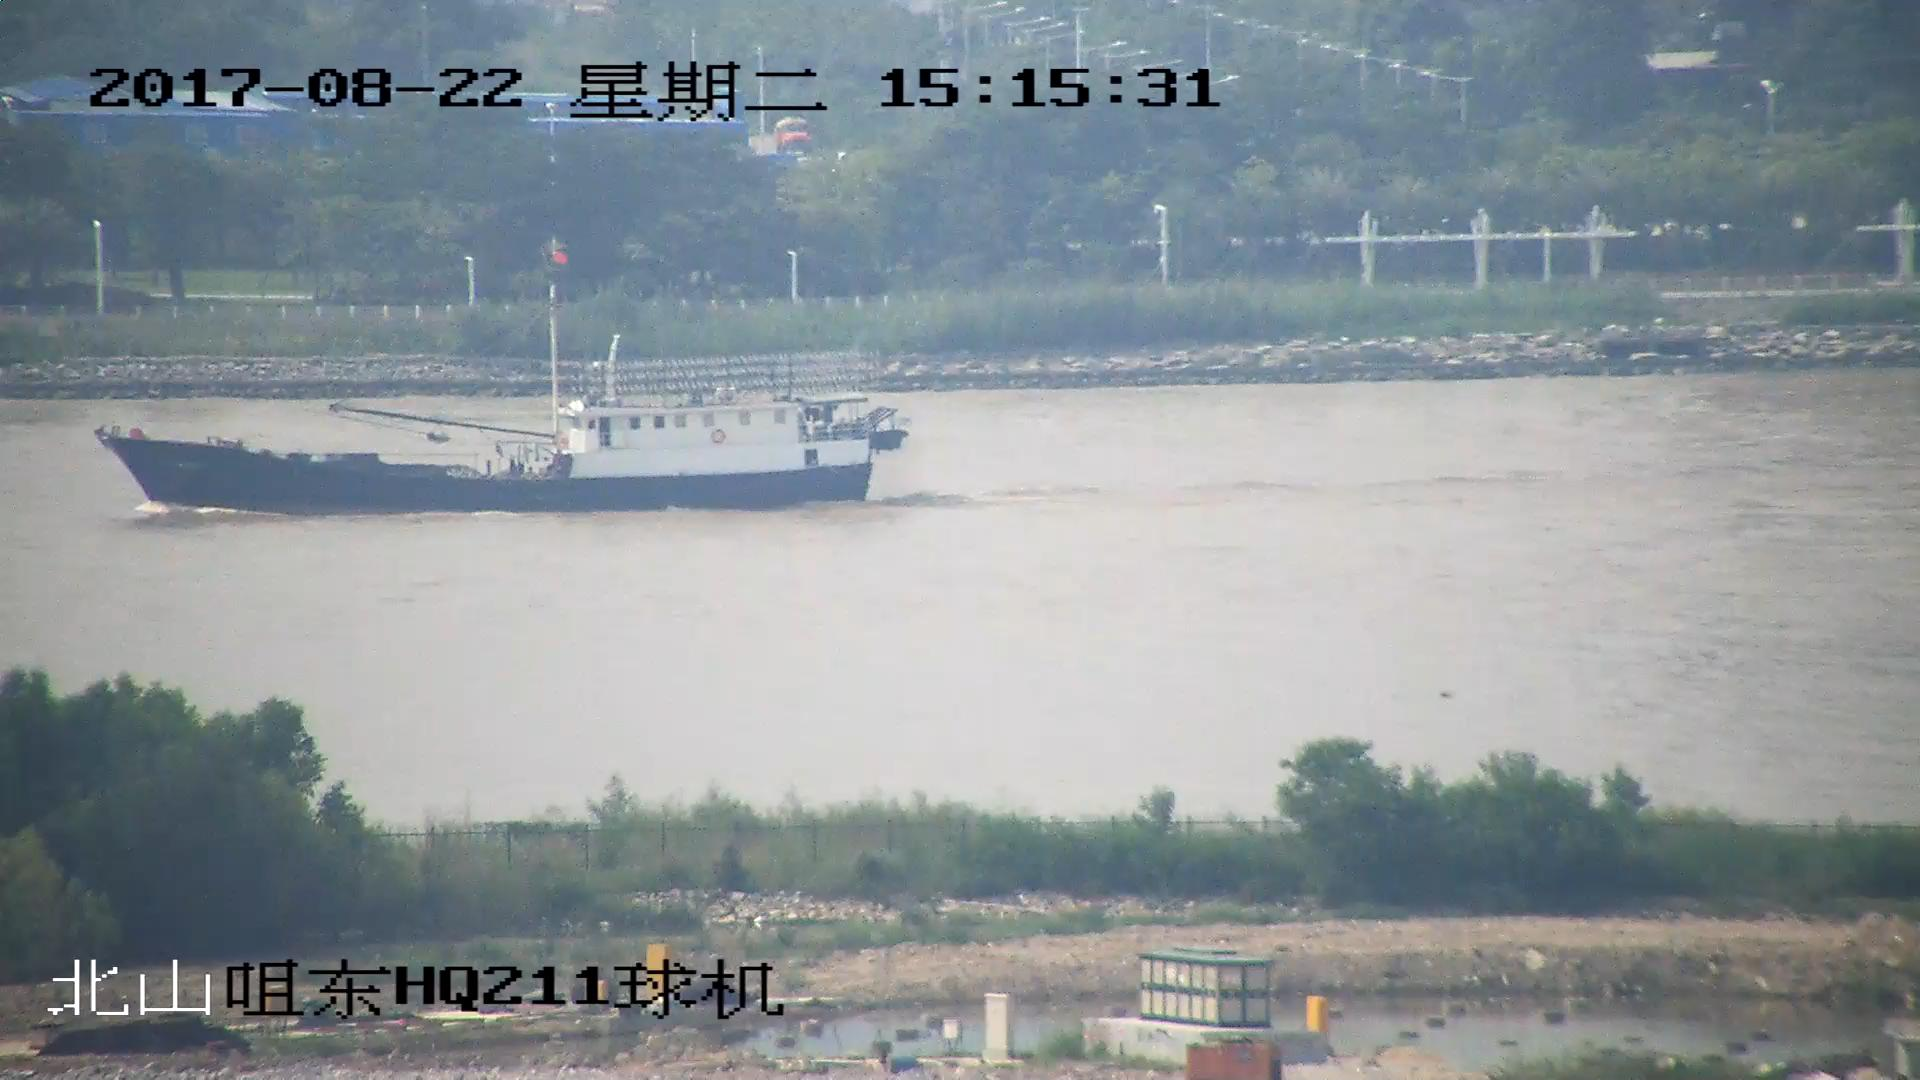fishing boat: (104, 238, 904, 517)
